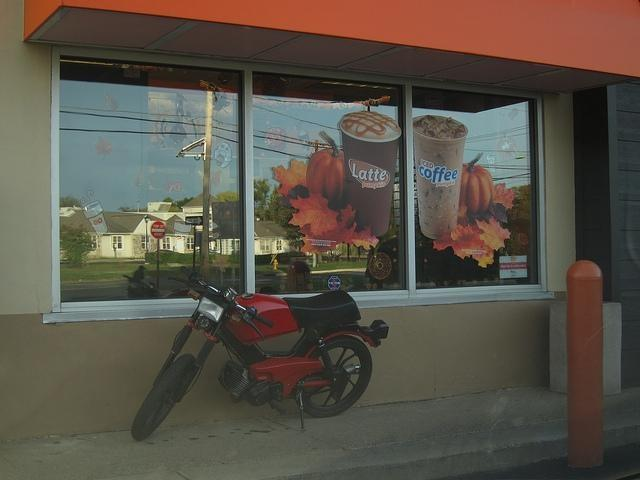motorcycle: (130, 265, 388, 441)
